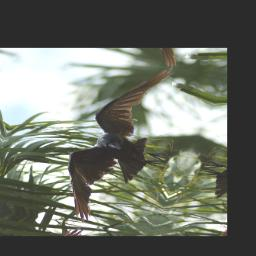Crow: (40, 60, 206, 229)
